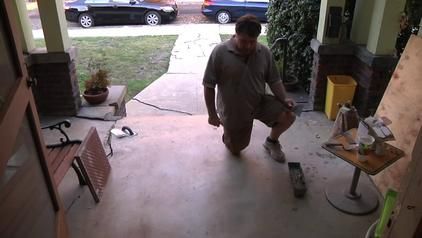down: (107, 121, 138, 139)
